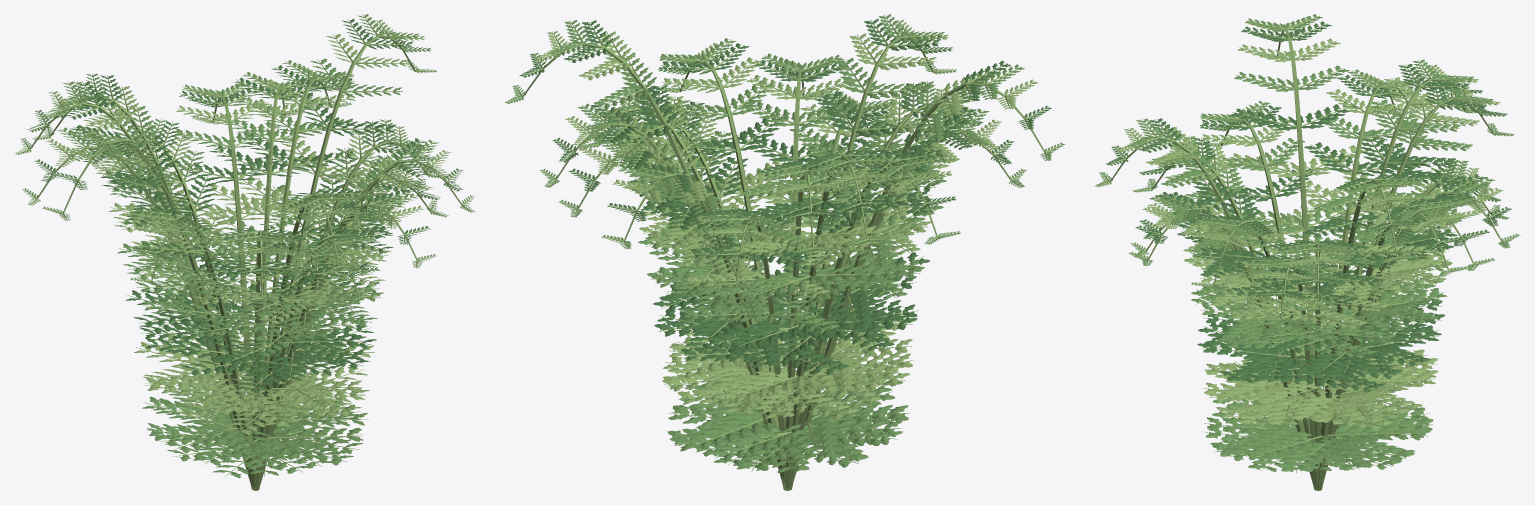
File: fern-clump.glb
3 renders of one model, left to right at view 1: azimuth 30°, elevation 25°; view 2: azimuth 150°, elevation 25°; view 3: azimuth 270°, elevation 25°, orthographic. The views are drawn at different scales.
Visible parts, largest first — view 1: fern-clump; view 2: fern-clump; view 3: fern-clump.
Boxes of the visible parts, x1,y1,x2,y2 form: fern-clump: (14, 14, 475, 490); fern-clump: (504, 14, 1065, 490); fern-clump: (1094, 14, 1520, 490).
Size of the model in its own units: 0.75 by 0.65 by 0.65.
